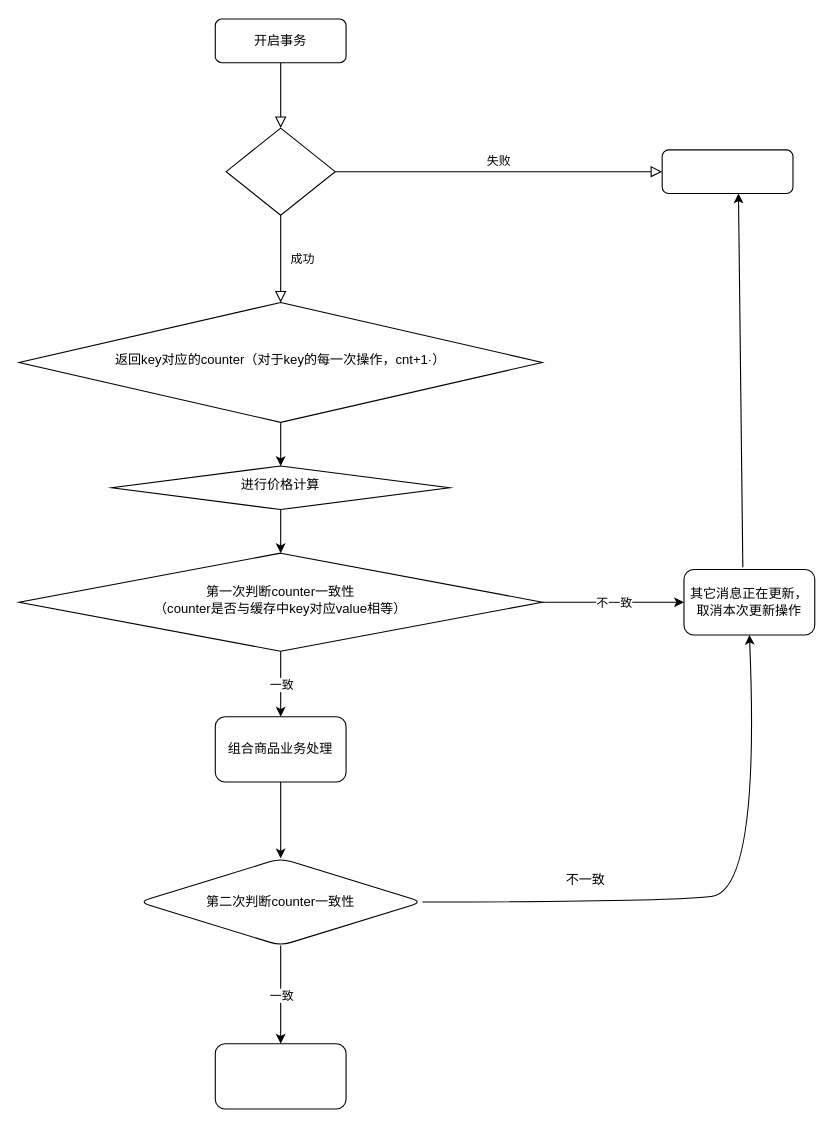
Image size: 834x1128. Some labels were removed from this diagram. Each missing label, with the centre of its shape:
事务提交，任务结束: pixel 280 1076
任务回滚: pixel 727 171
将商品作为key写入缓存: pixel 280 171
